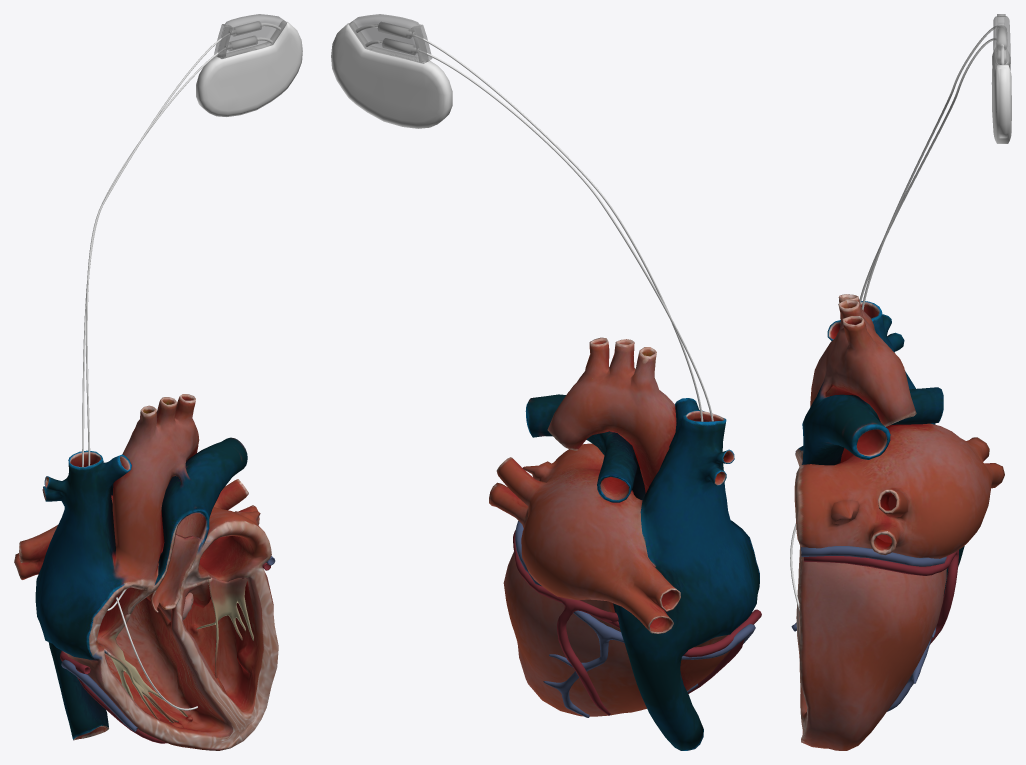
Rendered from Pacemaker.glb.
3 renders of one model, left to right at view 1: azimuth 30°, elevation 25°; view 2: azimuth 150°, elevation 25°; view 3: azimuth 270°, elevation 25°, orthographic. The views are drawn at different scales.
Parts seen in each view (by area): view 1: Heart.007, Plane, BezierCurve.001, CoronaryArtery.003; view 2: Heart.007, Plane, CoronaryArtery.003, BezierCurve.001; view 3: Heart.007, CoronaryArtery.003, Plane, BezierCurve.001.
Part boxes in pixels (x1,y1,x2,y2): Heart.007: (14,394,278,750); Plane: (196,14,302,116); BezierCurve.001: (82,33,229,710); CoronaryArtery.003: (60,556,275,743); Heart.007: (489,337,759,750); Plane: (331,14,452,128); CoronaryArtery.003: (513,521,761,717); BezierCurve.001: (414,35,713,421); Heart.007: (794,294,1004,750); CoronaryArtery.003: (791,546,958,711); Plane: (991,14,1011,143); BezierCurve.001: (790,25,997,611).
Bounding box in the file's own units: 16.47 × 32.4 × 8.39.
7 materials, 1 textured.
